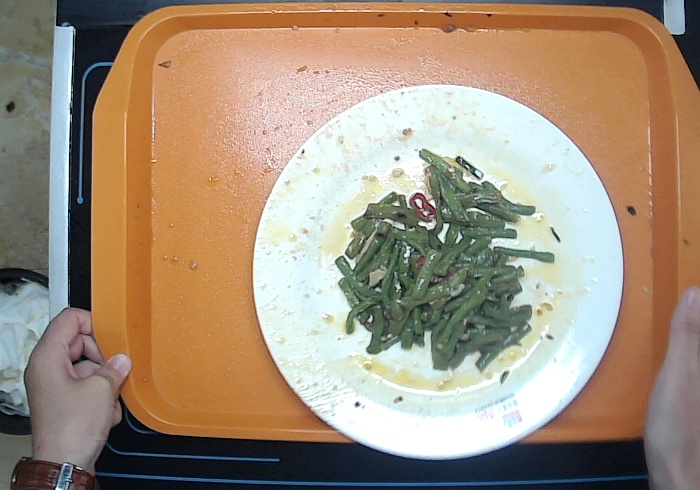ZNLD-Da_Yuan_Pan: (251, 84, 628, 465)
